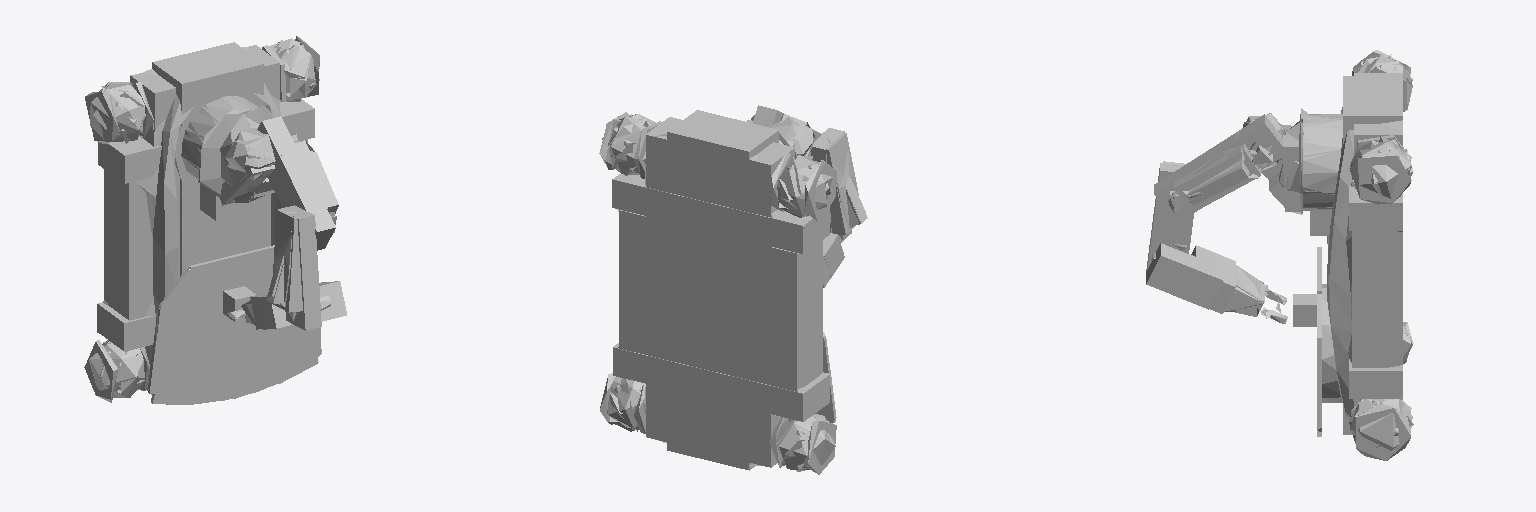
Rendered from youbot_simple1.obj.
The picture shows the model from 3 angles: view 1: azimuth 30°, elevation 25°; view 2: azimuth 150°, elevation 25°; view 3: azimuth 270°, elevation 25°; orthographic projection.
Bounding box in the file's own units: 0.4219 × 0.5701 × 0.4332.